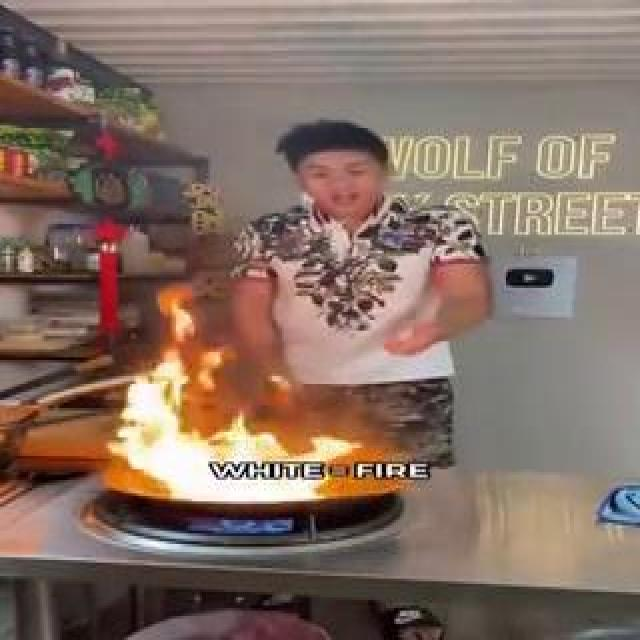Fire: (234, 272, 384, 370)
